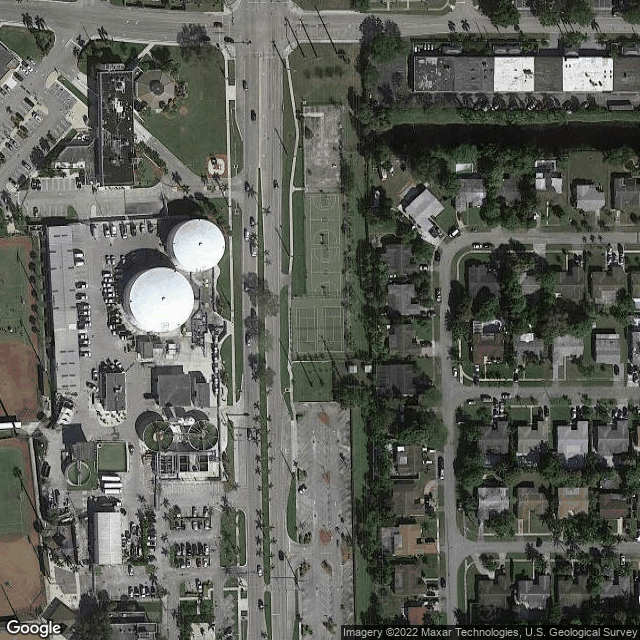Court: (296, 307, 318, 352), (322, 305, 343, 352)
